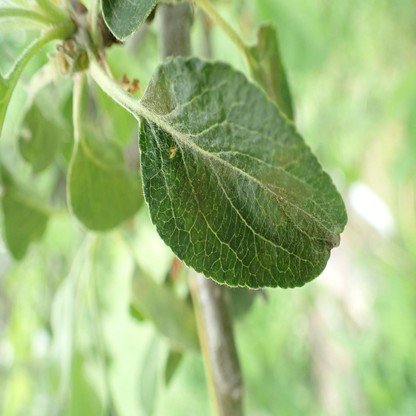scab: (181, 152, 229, 211), (259, 177, 308, 222), (142, 83, 170, 112), (275, 155, 294, 166)
